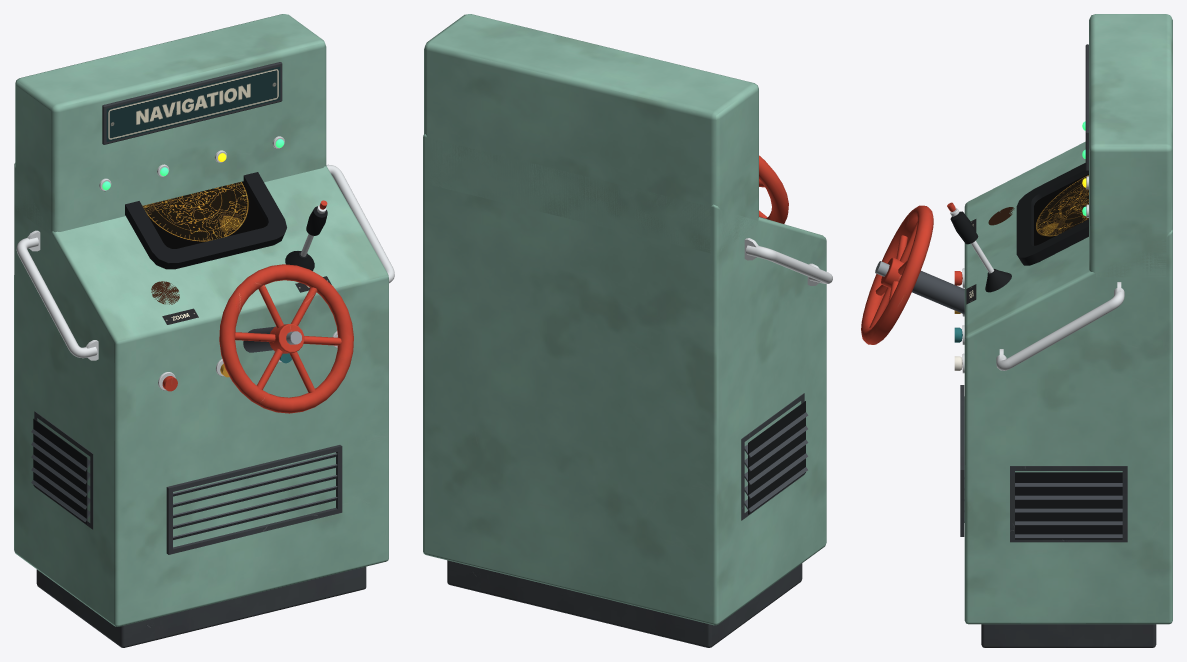
File: NavConsole.glb
3 renders of one model, left to right at view 1: azimuth 30°, elevation 25°; view 2: azimuth 150°, elevation 25°; view 3: azimuth 270°, elevation 25°, orthographic. The views are drawn at different scales.
Parts seen in each view (by area): view 1: NavConsole_Body, NavConsole_SteerWheel, NavConsole_Joystick; view 2: NavConsole_Body, NavConsole_SteerWheel; view 3: NavConsole_Body, NavConsole_SteerWheel, NavConsole_Joystick.
Part boxes in pixels (x1,y1,x2,y2): NavConsole_Body: (14, 14, 394, 647); NavConsole_SteerWheel: (219, 264, 353, 413); NavConsole_Joystick: (285, 205, 327, 270); NavConsole_Body: (423, 14, 832, 647); NavConsole_SteerWheel: (759, 155, 788, 223); NavConsole_Body: (912, 14, 1172, 647); NavConsole_SteerWheel: (861, 205, 933, 344); NavConsole_Joystick: (950, 208, 1011, 292).
Size of the model in its own units: 1.12 by 1.68 by 0.9283.
Materials: 18 (10 with a texture image).
